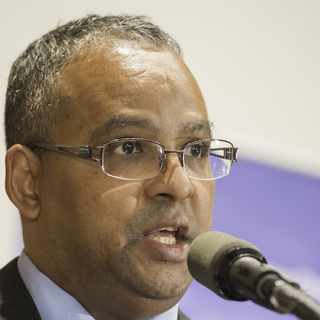eye: (108, 136, 150, 162)
